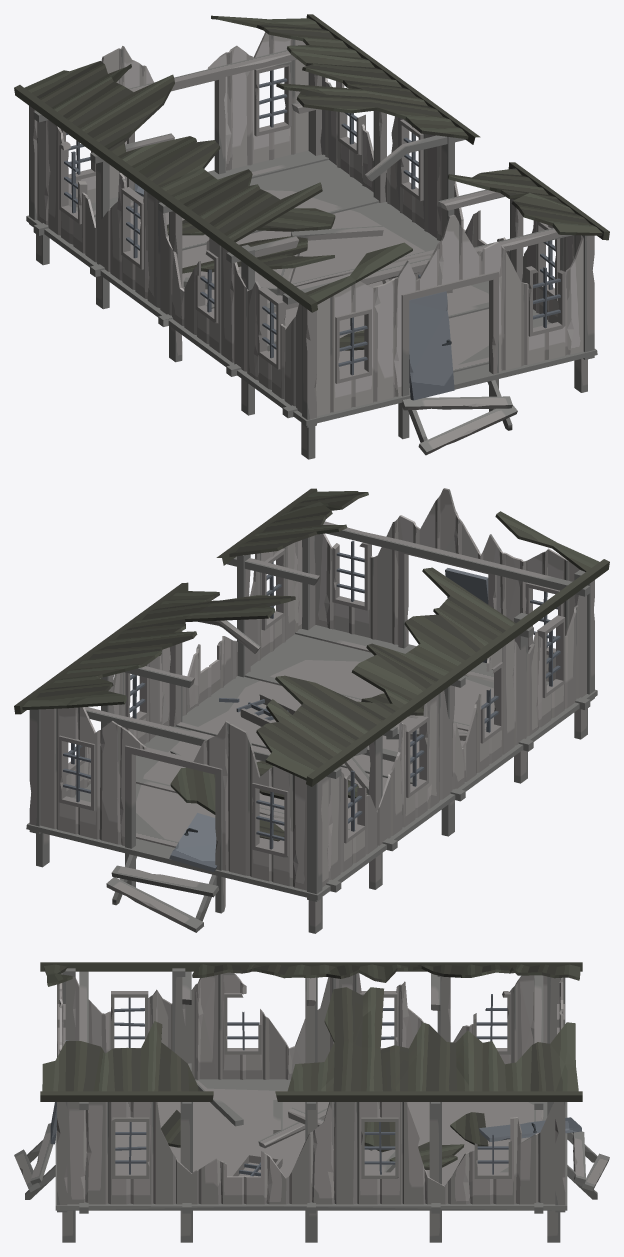
File: SM_Bld_Barracks_Destroyed_01.glb
3 views of the same model, one above another, from view 1: azimuth 30°, elevation 25°; view 2: azimuth 150°, elevation 25°; view 3: azimuth 270°, elevation 25° (orthographic). The views are drawn at different scales.
Parts seen in each view (by area): view 1: SM_Bld_Barracks_Destroyed_01; view 2: SM_Bld_Barracks_Destroyed_01; view 3: SM_Bld_Barracks_Destroyed_01.
Boxes of the visible parts, x1=… form: SM_Bld_Barracks_Destroyed_01: x1=14, y1=14, x2=609, y2=459; SM_Bld_Barracks_Destroyed_01: x1=14, y1=488, x2=609, y2=933; SM_Bld_Barracks_Destroyed_01: x1=14, y1=962, x2=609, y2=1242.
Bounding box in the file's own units: 7.43 × 5.08 × 13.9.
1 material, 1 textured.
